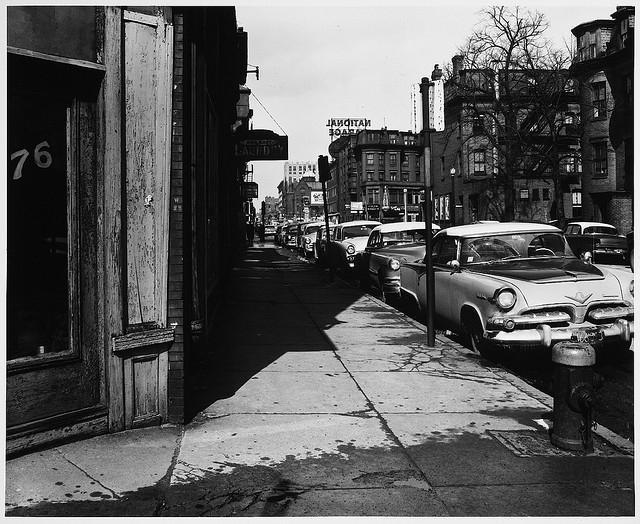car: (402, 221, 636, 362), (356, 220, 447, 311), (331, 220, 383, 274), (562, 222, 628, 258), (300, 221, 327, 259), (313, 224, 334, 268), (282, 224, 298, 250), (274, 225, 287, 246), (546, 218, 558, 229), (264, 225, 276, 235), (270, 215, 284, 223), (298, 222, 304, 235)
